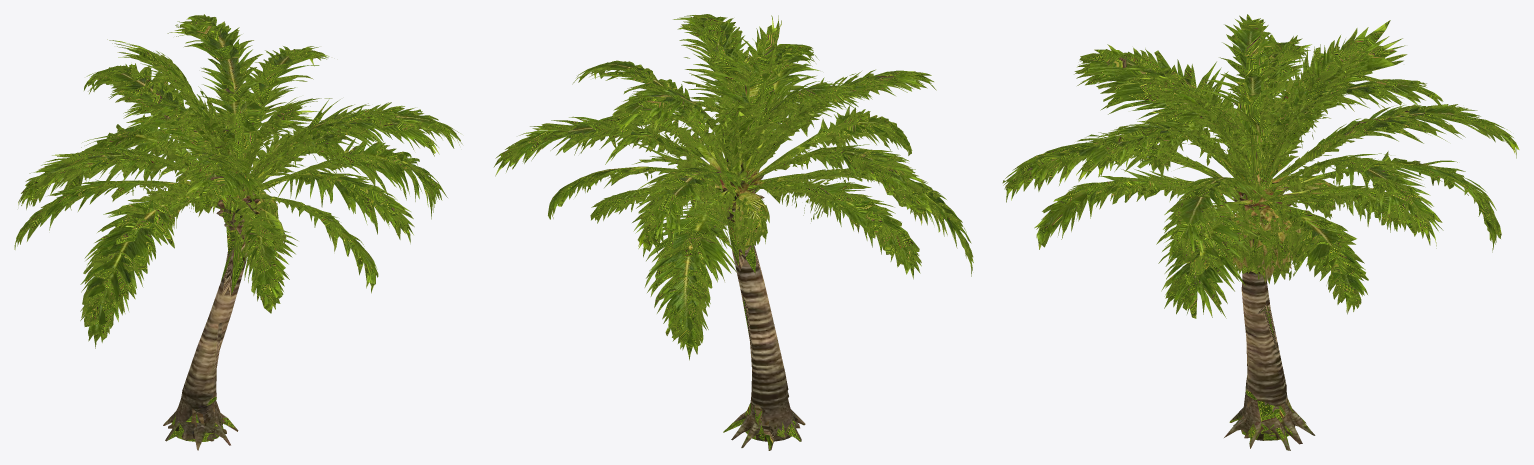
Rendered from tree22.glb.
The picture shows the model from 3 angles, left to right: view 1: azimuth 30°, elevation 25°; view 2: azimuth 150°, elevation 25°; view 3: azimuth 270°, elevation 25°; orthographic projection. The views are drawn at different scales.
Size of the model in its own units: 1.65 by 1.43 by 1.7.
1 material, 1 textured.
